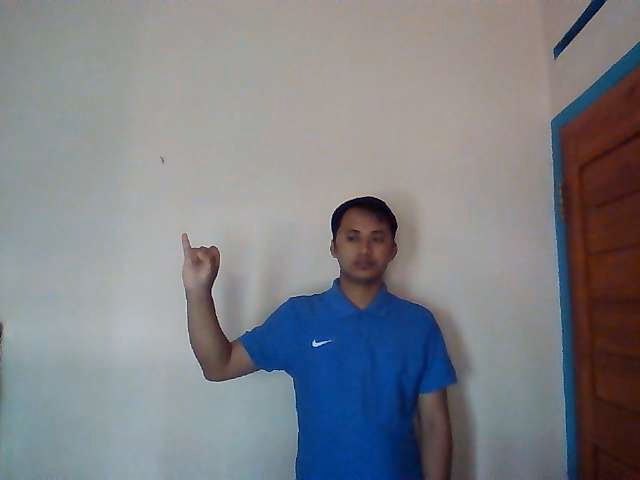I: (180, 232, 221, 293)
